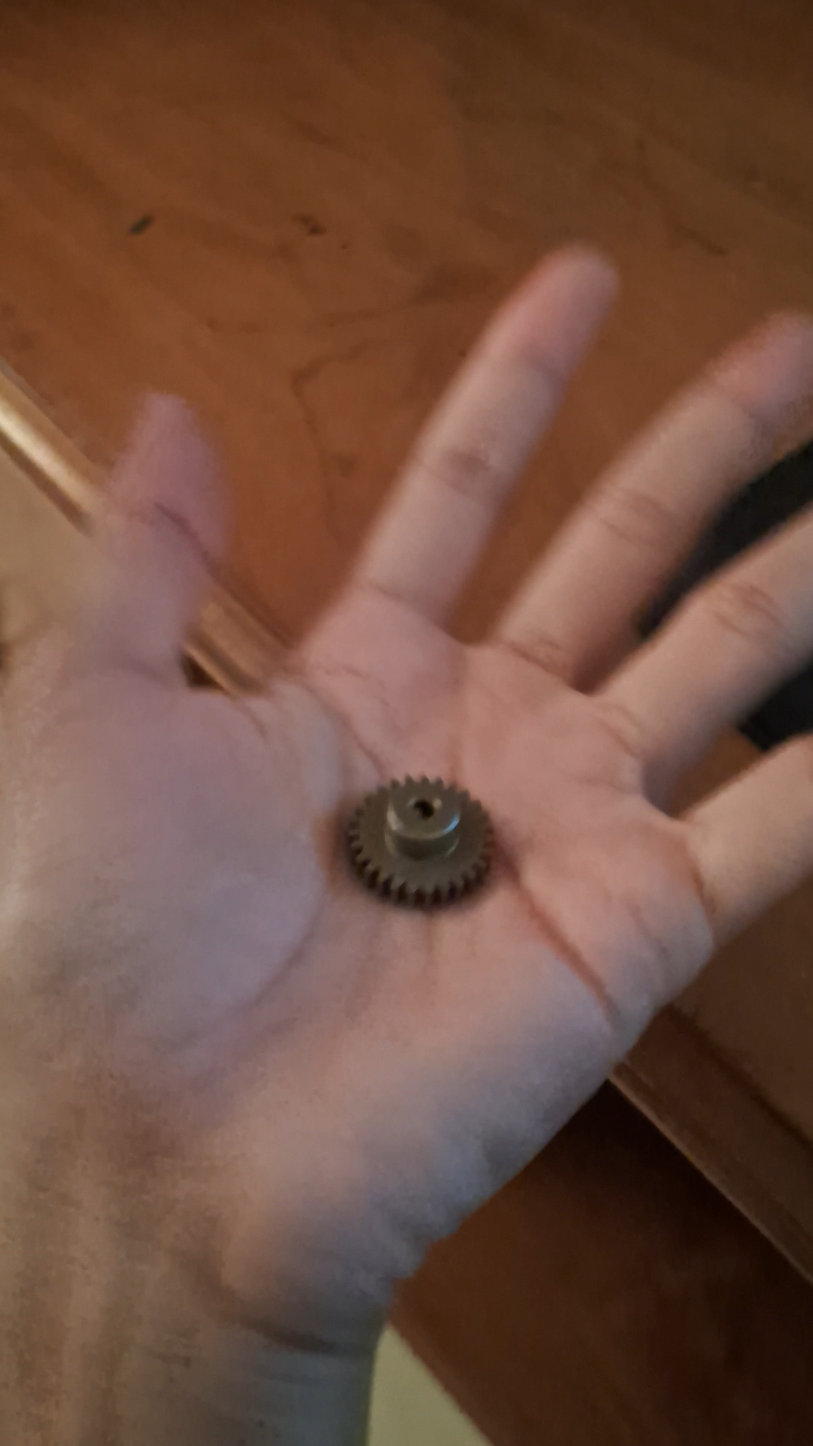spur gear: (347, 777, 492, 906)
